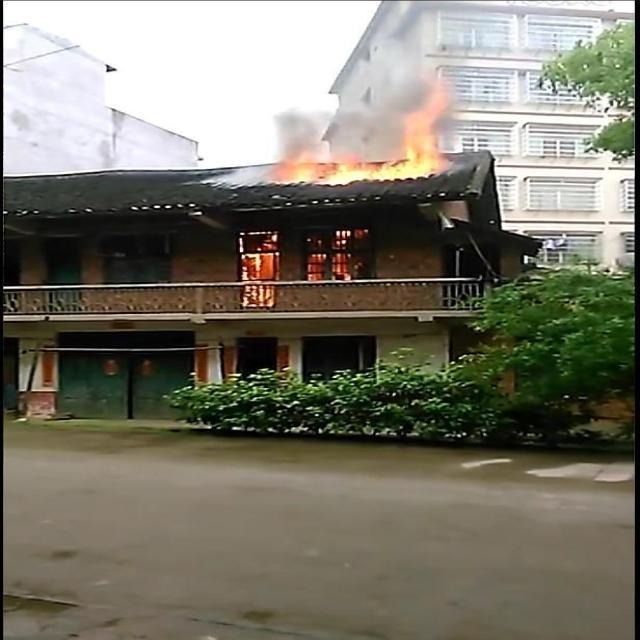Fire: (264, 77, 458, 184), (305, 228, 369, 282), (241, 231, 276, 306)
Smoke: (273, 32, 430, 162)
